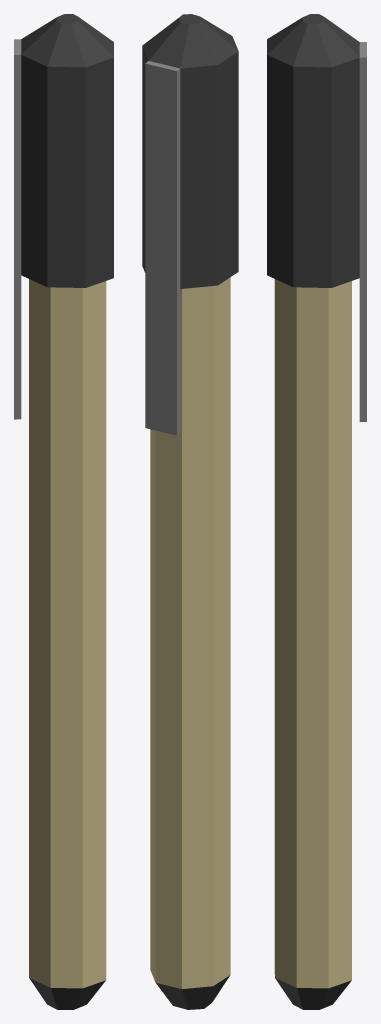
File: Pen.fbx
The picture shows the model from 3 angles, left to right: view 1: azimuth 90°, elevation 25°; view 2: azimuth 150°, elevation 25°; view 3: azimuth 270°, elevation 25°; orthographic projection.
Parts seen in each view (by area): view 1: Pen, Lid; view 2: Pen, Lid; view 3: Pen, Lid.
Boxes of the visible parts, x1,y1,x2,y2 form: Pen: (29, 279, 106, 1009); Lid: (14, 14, 113, 419); Pen: (150, 277, 230, 1009); Lid: (142, 14, 238, 435); Pen: (274, 279, 351, 1009); Lid: (267, 14, 366, 421).
Bounding box in the file's own units: 33.01 × 396 × 36.59.
